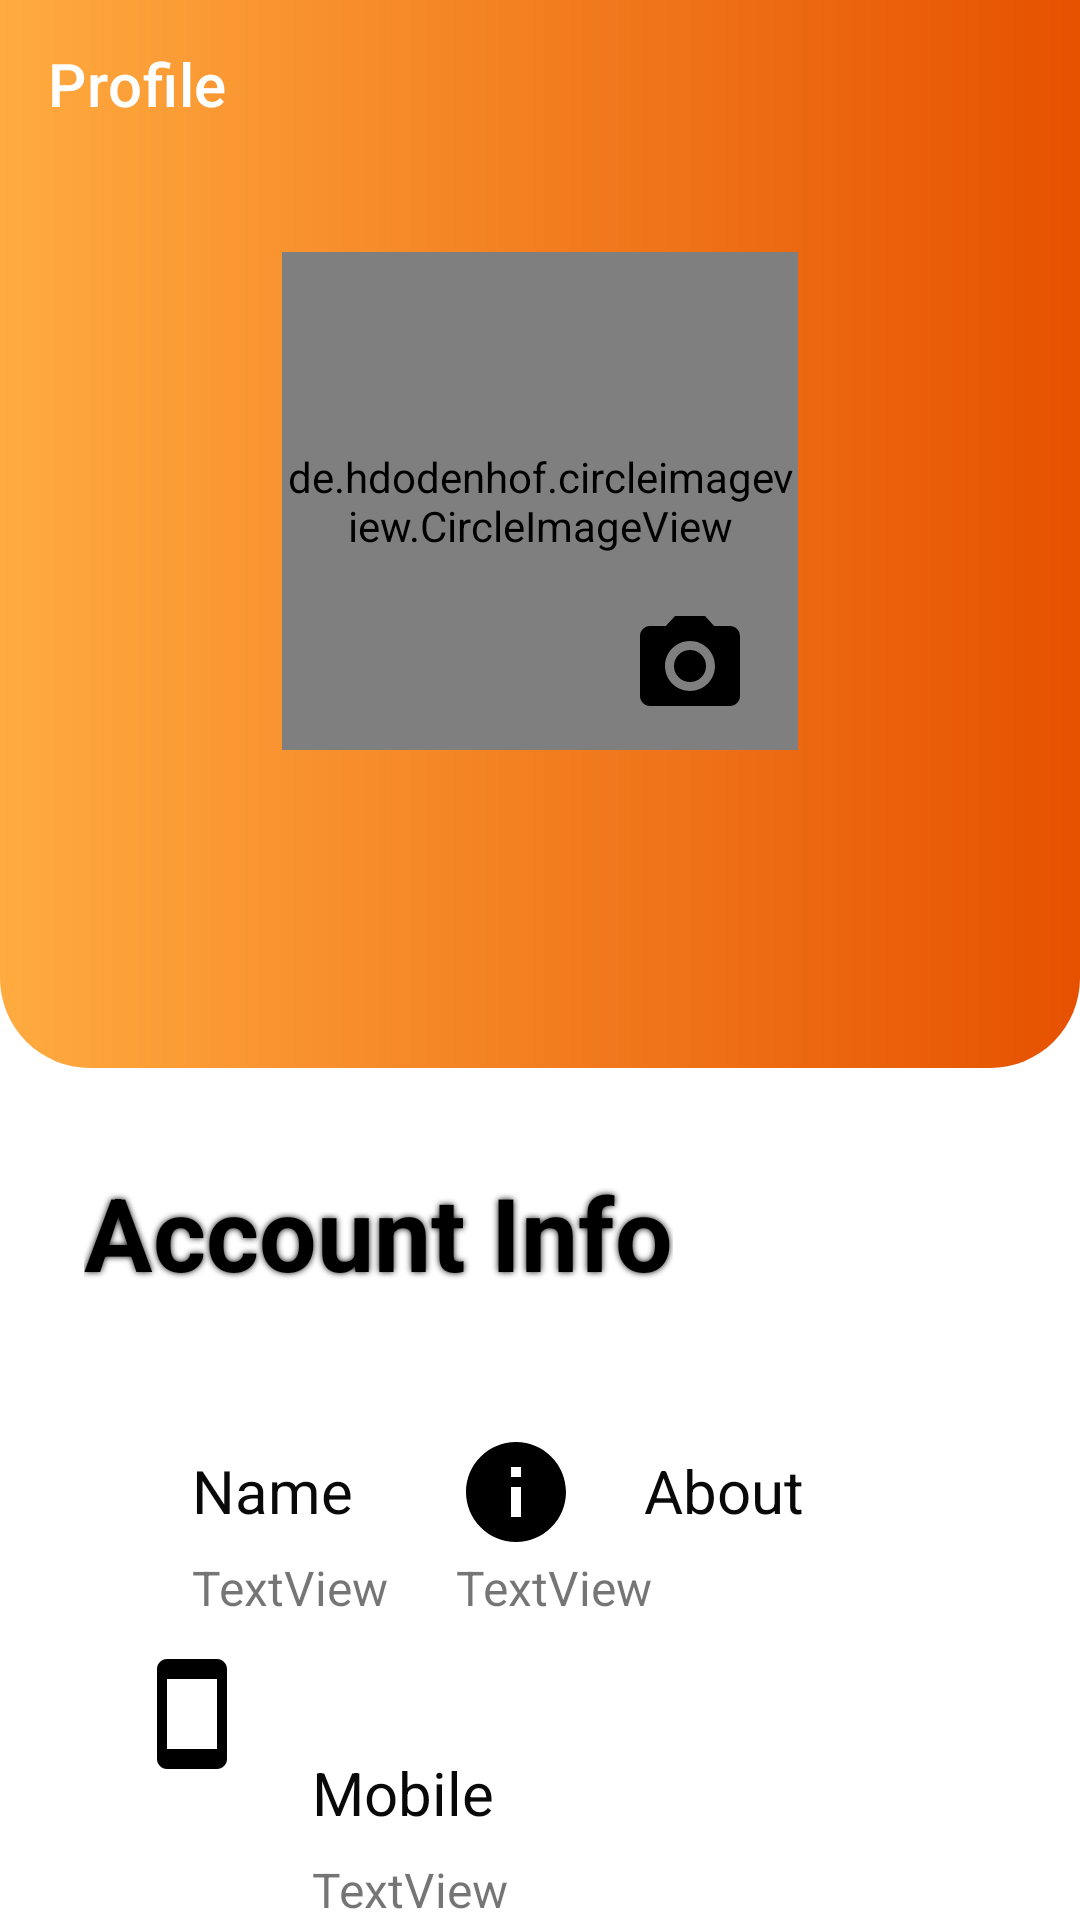

Where to tap for icons on this 1080 × 1920 app screen, as (x,y):
camera: (690,661)
smartphone: (192,1714)
